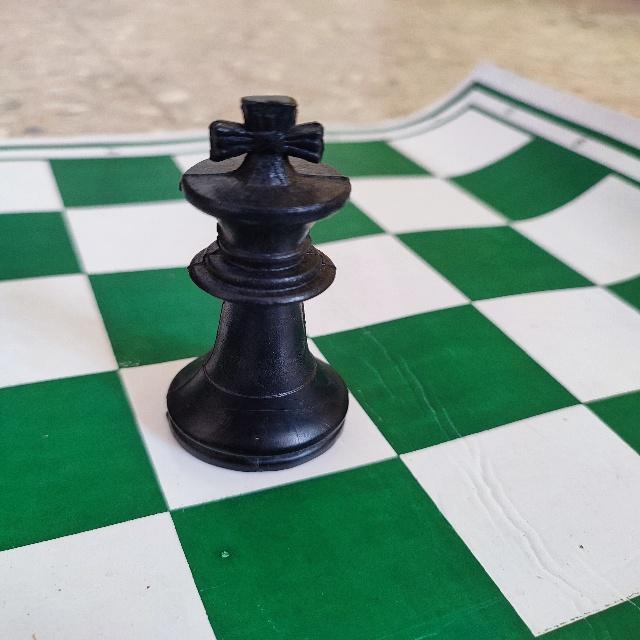King: (164, 93, 353, 475)
